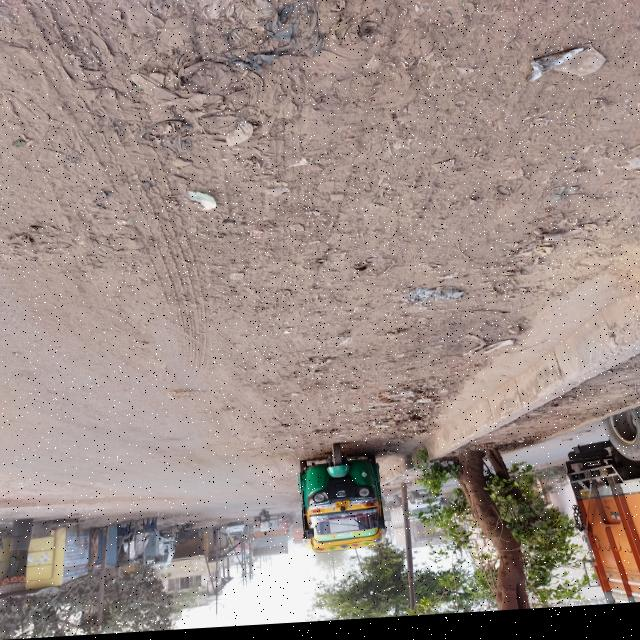plate: (335, 504, 351, 513)
